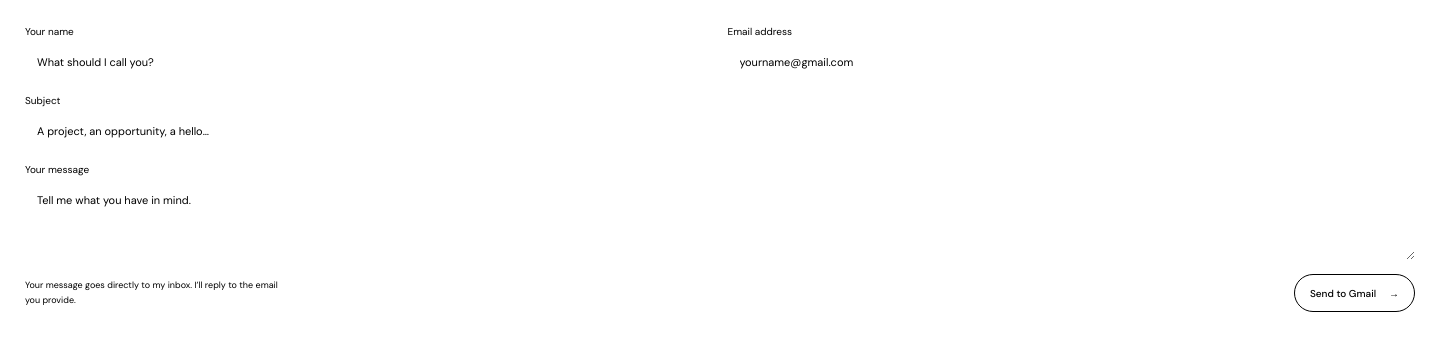
Scenario: failed delivery requests retain the message and show an error
Type "Visitor" into the field labelled "Your name" at [369, 62], box x1=25 y1=44 x2=712 y2=80
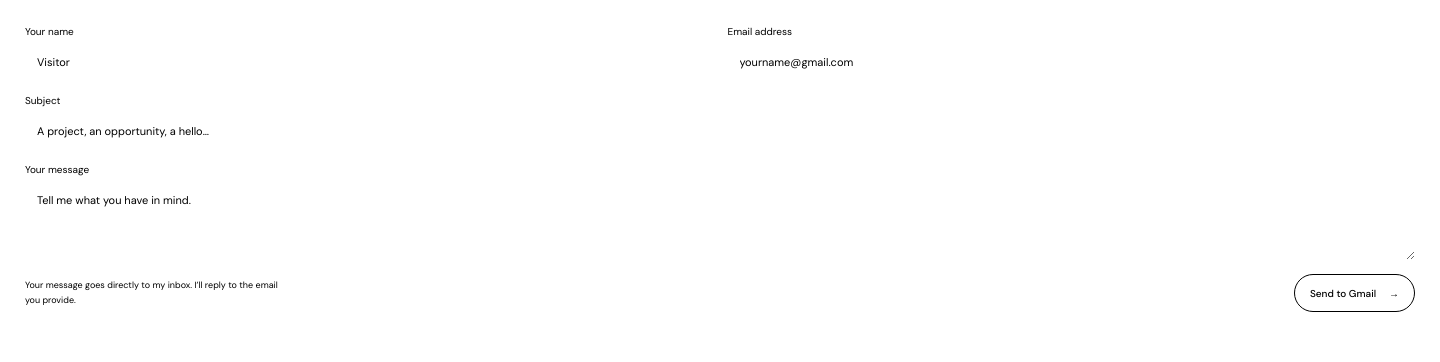
Type "visitor@gmail.com" into the field labelled "Email address" at [1071, 62], box x1=728 y1=44 x2=1415 y2=80
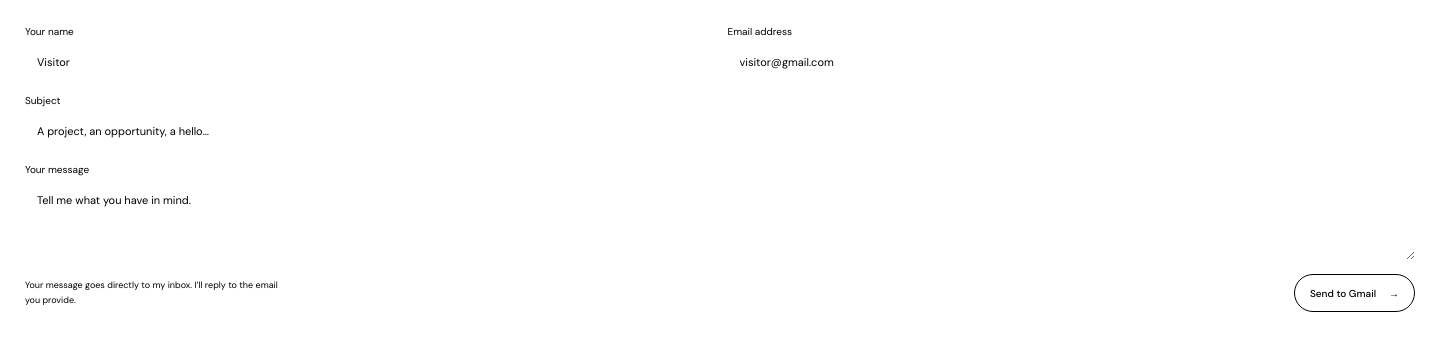
Type "Hello" into the field labelled "Subject" at [720, 131], box x1=25 y1=113 x2=1415 y2=149
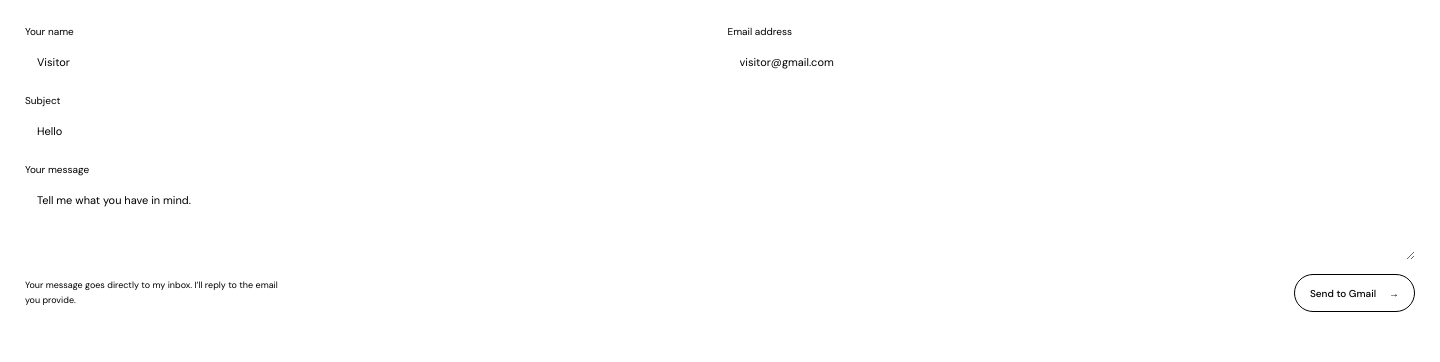
Type "My message" into the text box labelled "Your message" at [720, 221], box x1=25 y1=182 x2=1415 y2=260
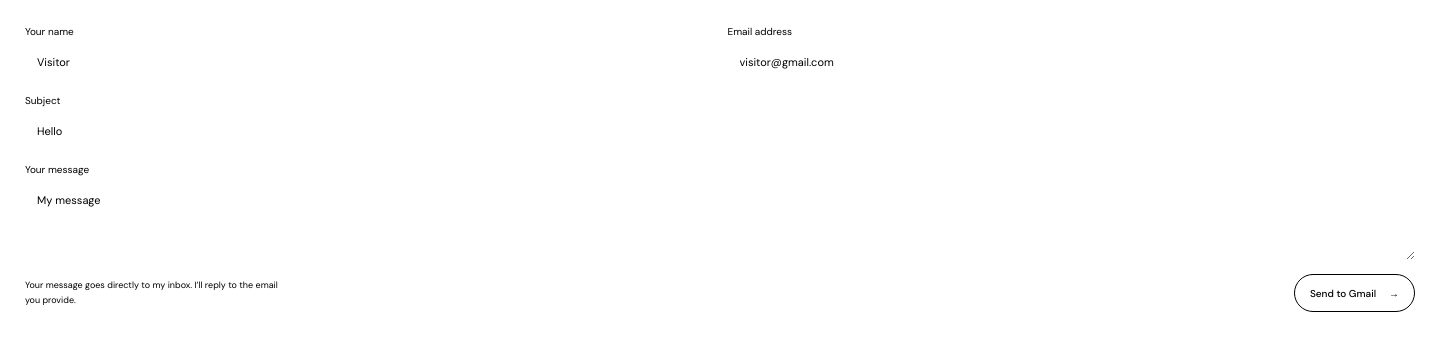
Submit the form
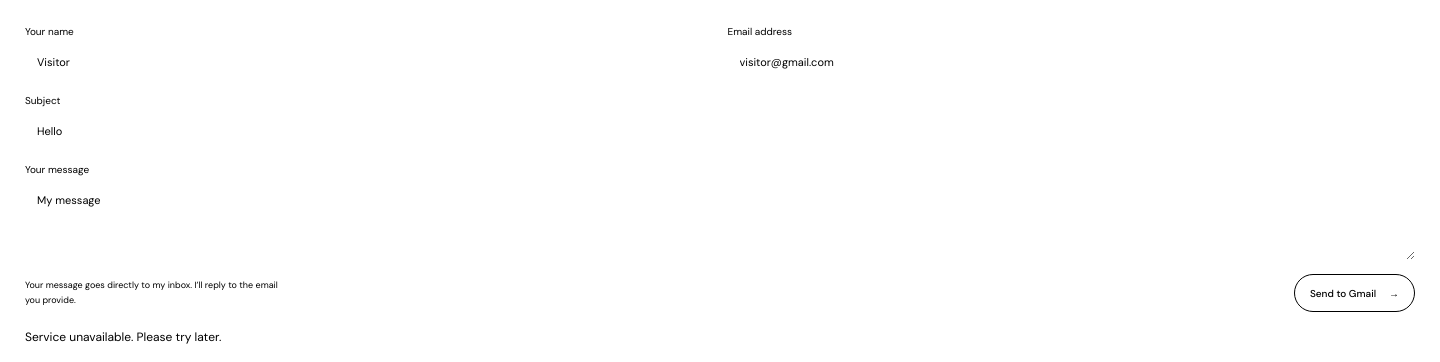
expect the message "Service unavailable. Please try later." is shown: met, box x1=25 y1=329 x2=221 y2=345
